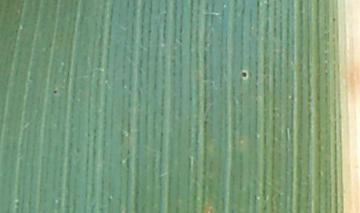tarspot: (240, 69, 249, 82), (51, 88, 59, 96), (13, 199, 20, 207), (330, 16, 336, 22)
